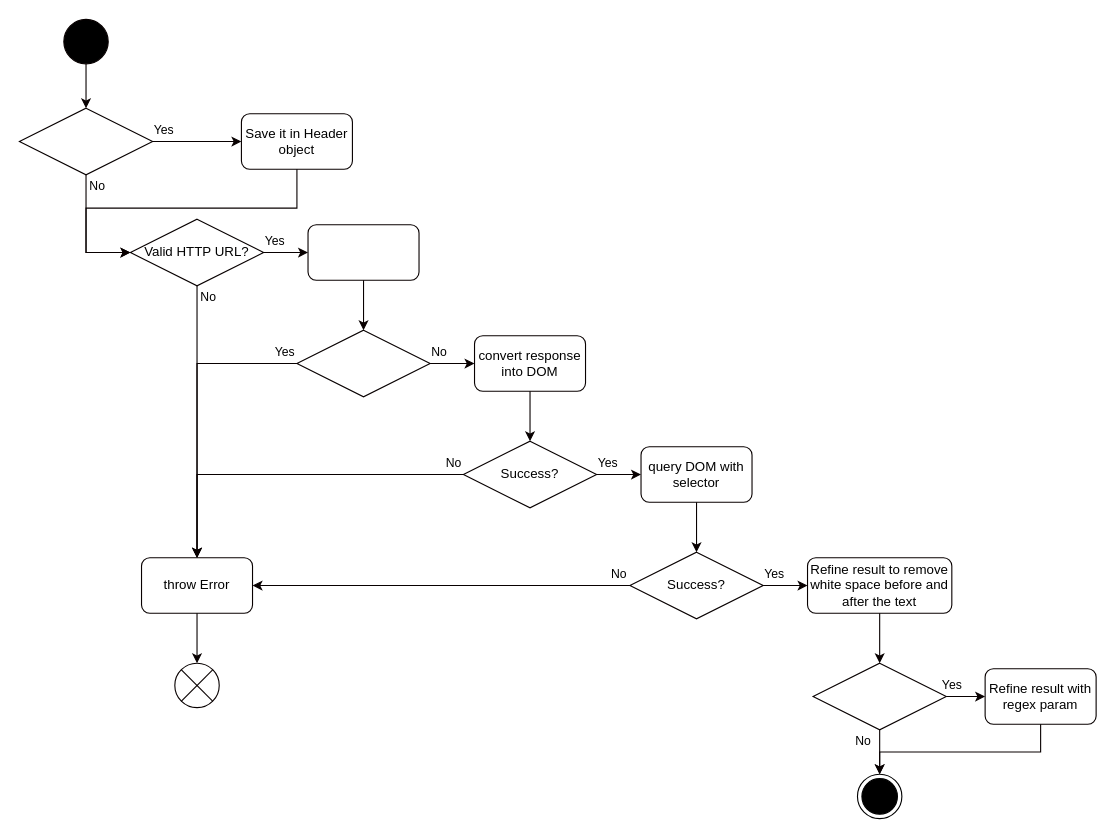
The diagram is 1116 pixels wide and 838 high, and some of its shapes have lost their labels. The centre of each missing label's shape, as x and y in pixels:
Any headers?: the point at 85,141
Error while requesting?: the point at 363,363
HTTP request: the point at 363,252
regex param?: the point at 879,696
